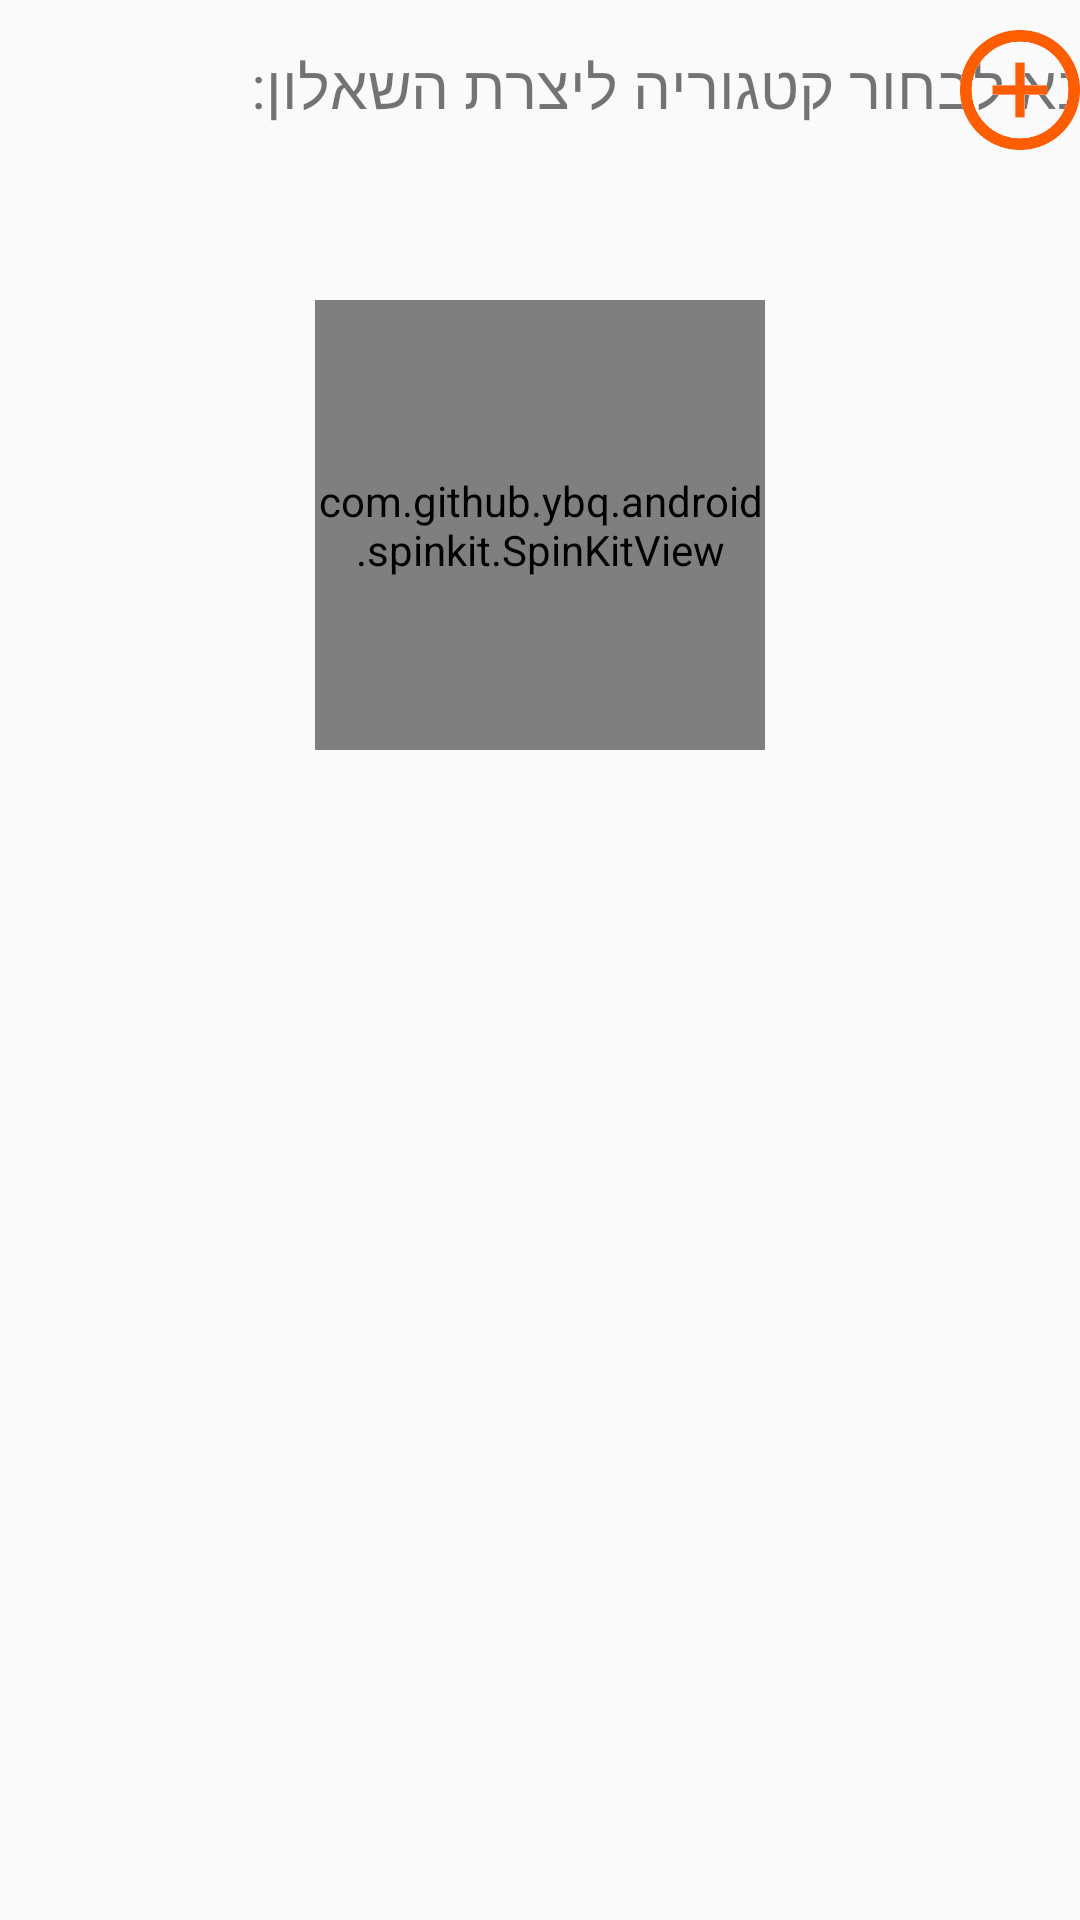

Icons on this 1080x1920 Android screen, each with its box as (x1, y1, x2, y2):
plus: (960, 30, 1080, 150)
